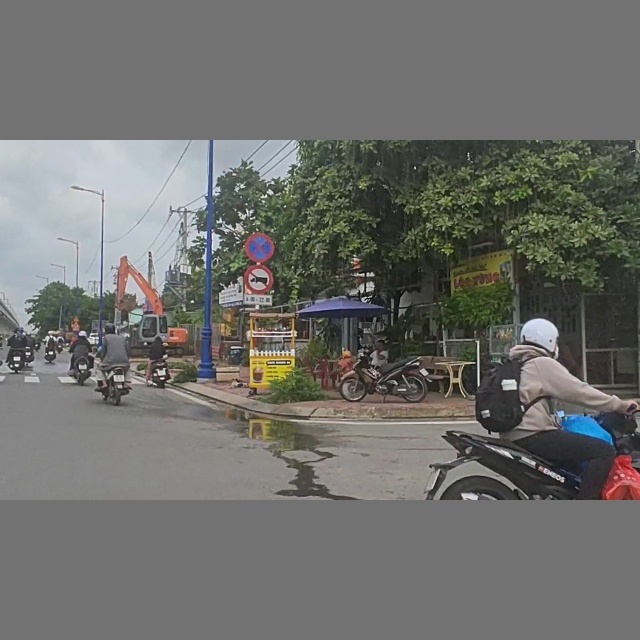B.8a: (245, 265, 274, 295)
P.130: (244, 232, 275, 262)
